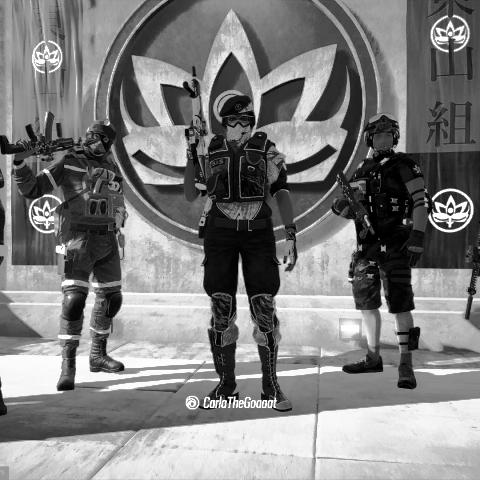Character: (184, 65, 300, 412), (0, 110, 129, 392), (330, 111, 434, 391)
Head: (219, 94, 257, 142), (363, 112, 400, 156), (84, 117, 118, 156)
